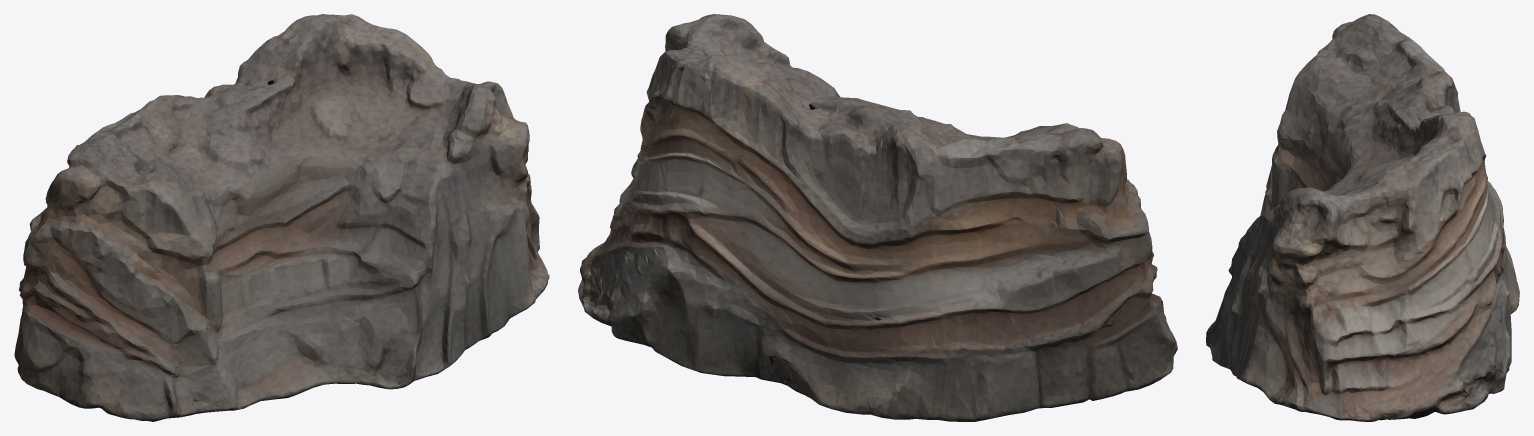
3 views of the same model, side by side, from view 1: azimuth 30°, elevation 25°; view 2: azimuth 150°, elevation 25°; view 3: azimuth 270°, elevation 25° (orthographic). The views are drawn at different scales.
Visible parts, largest first — view 1: geometry_0; view 2: geometry_0; view 3: geometry_0.
Boxes of the visible parts, box(x1,y1,x2,y2) form: geometry_0: box(14, 14, 549, 421); geometry_0: box(578, 14, 1177, 421); geometry_0: box(1206, 14, 1519, 421).
Bounding box in the file's own units: 1 × 0.5124 × 0.5684.
8 materials, 8 textured.
